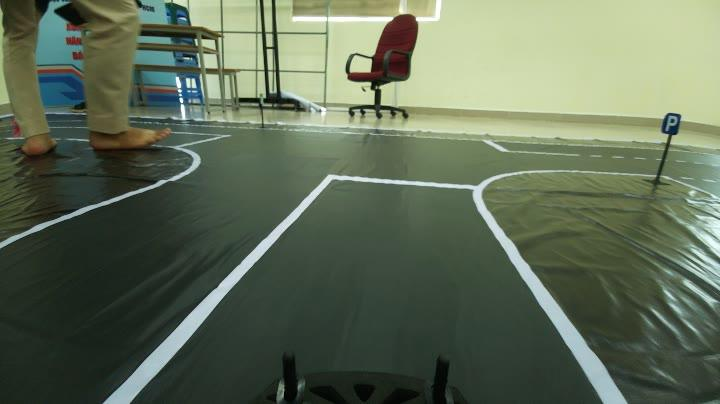parking: (659, 108, 683, 143)
